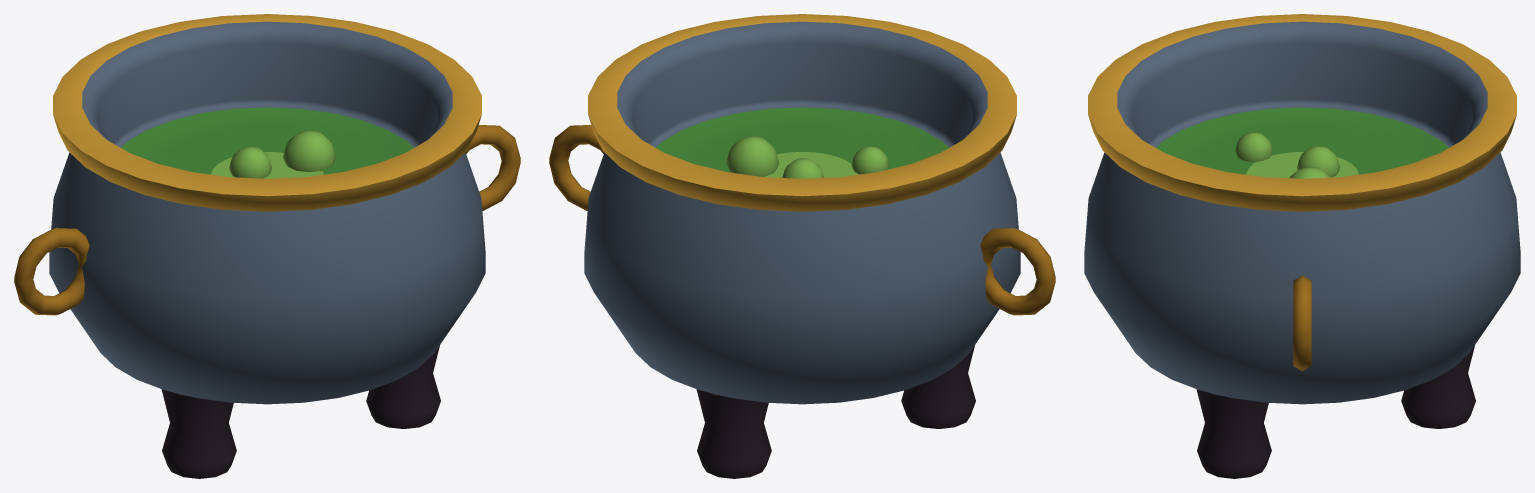
Rendered from Cauldron_03.glb.
3 views of the same model, side by side, from view 1: azimuth 30°, elevation 25°; view 2: azimuth 150°, elevation 25°; view 3: azimuth 270°, elevation 25° (orthographic).
Parts seen in each view (by area): view 1: Cauldron_03; view 2: Cauldron_03; view 3: Cauldron_03.
Boxes of the visible parts, bbox=[...] form: Cauldron_03: bbox=[14, 14, 520, 478]; Cauldron_03: bbox=[549, 14, 1055, 478]; Cauldron_03: bbox=[1084, 14, 1520, 478].
Size of the model in its own units: 4.36 by 2.59 by 3.25.
